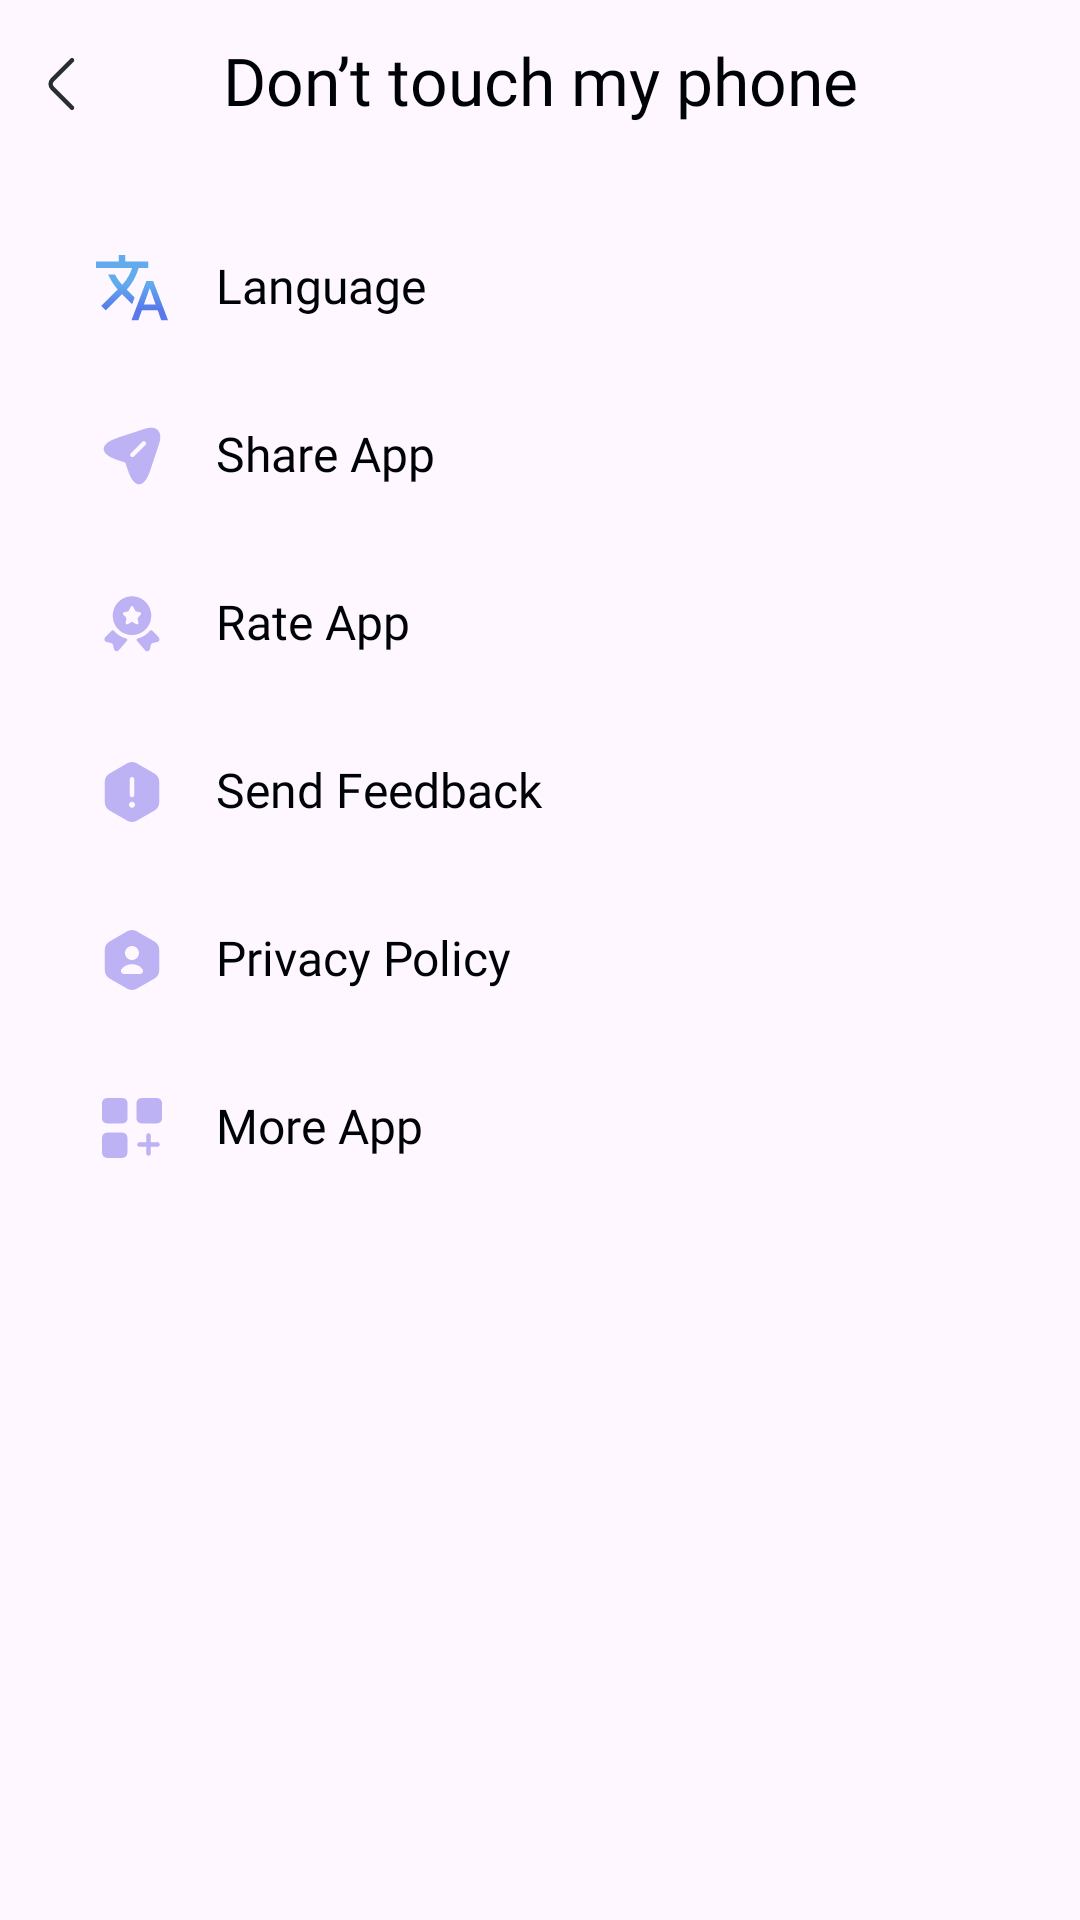

Point at icon controls on the screen. Image size 1080 x 1920, points as [x,y].
back: [61,84]
send feadback: [132,792]
